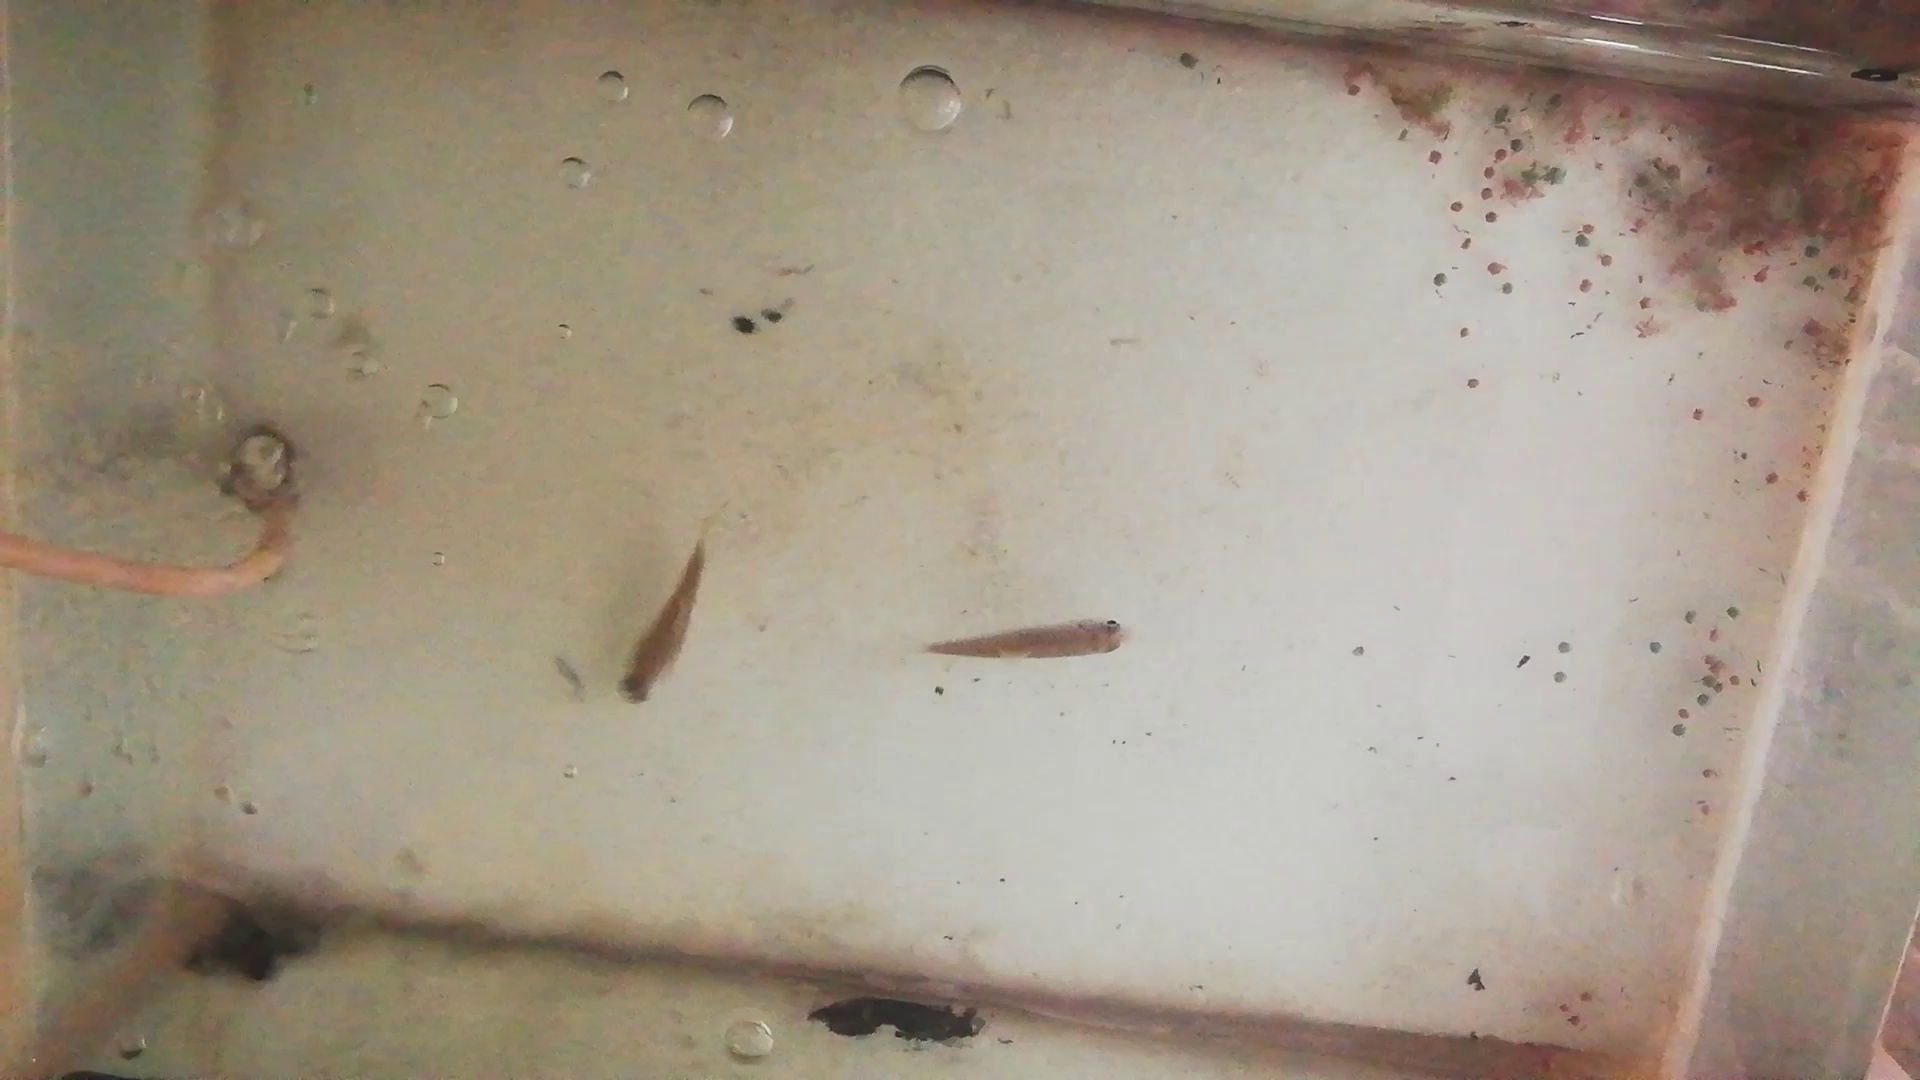fish: (615, 541, 711, 705), (928, 617, 1131, 662)
